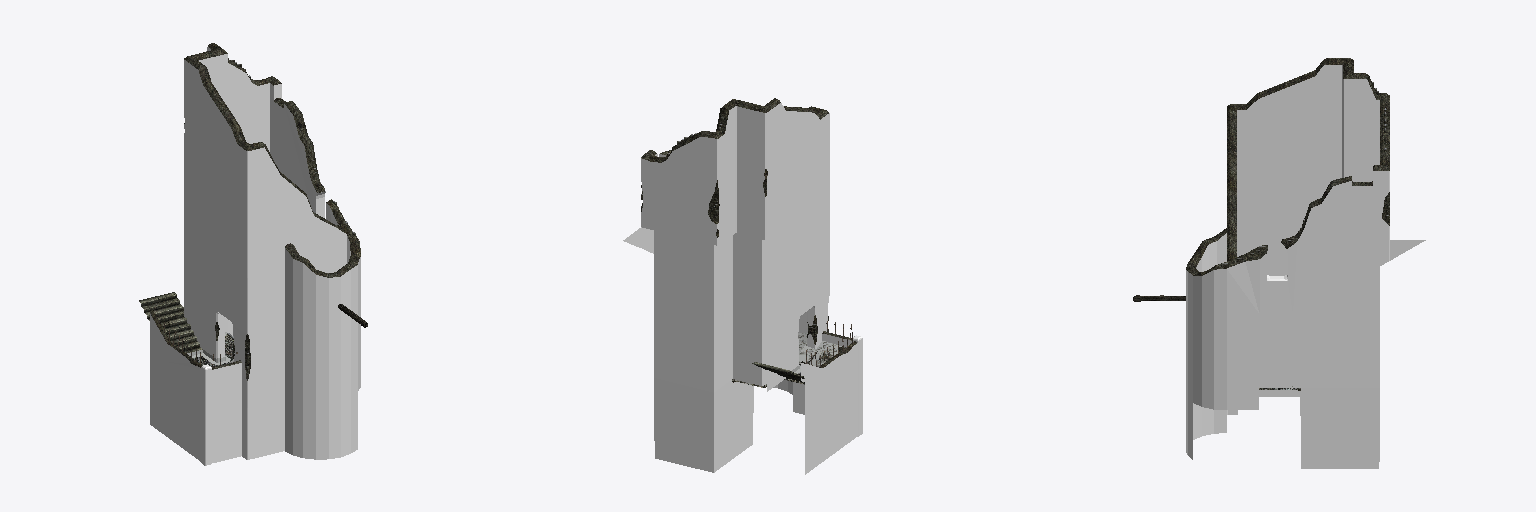
The picture shows the model from 3 angles: view 1: azimuth 30°, elevation 25°; view 2: azimuth 150°, elevation 25°; view 3: azimuth 270°, elevation 25°; orthographic projection.
Visible parts, largest first — view 1: mesh6, mesh11, mesh10; view 2: mesh6, mesh8, mesh11; view 3: mesh6, mesh8, mesh11.
Boxes of the visible parts, x1=… form: mesh6: x1=150, y1=47, x2=360, y2=465; mesh11: x1=150, y1=43, x2=360, y2=380; mesh10: x1=139, y1=292, x2=202, y2=352; mesh6: x1=623, y1=103, x2=862, y2=474; mesh8: x1=654, y1=378, x2=753, y2=472; mesh11: x1=641, y1=98, x2=856, y2=367; mesh6: x1=1186, y1=65, x2=1425, y2=459; mesh8: x1=1300, y1=388, x2=1379, y2=468; mesh11: x1=1186, y1=58, x2=1389, y2=275.
Bounding box in the file's own units: 8.21 × 19.57 × 14.34.
15 materials, 9 textured.